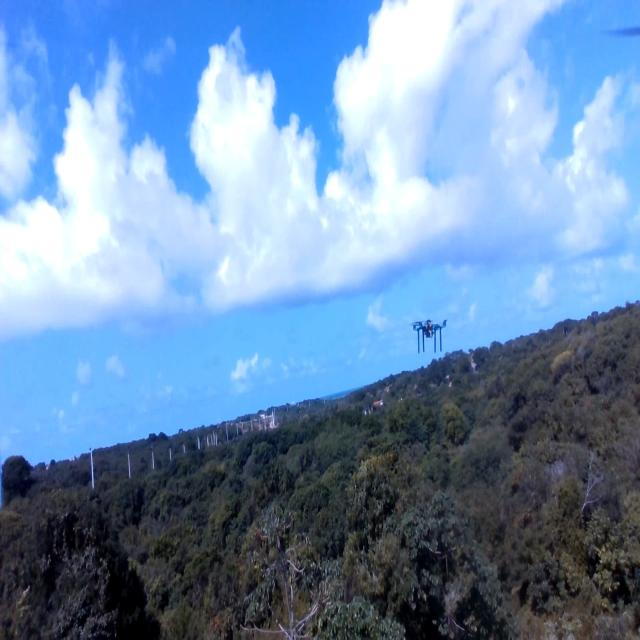-uav-: (407, 308, 452, 356)
